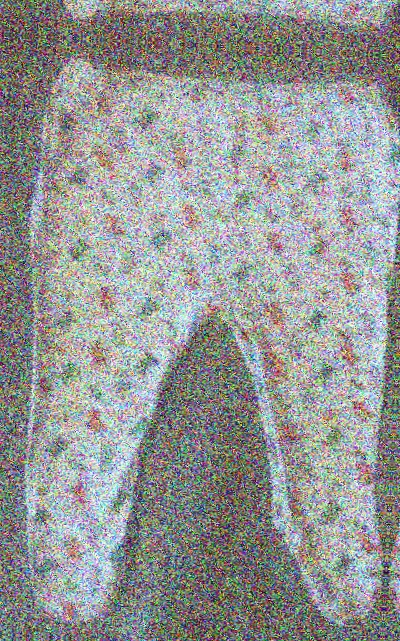Pants: (0, 58, 400, 638), (17, 0, 400, 34), (385, 80, 400, 641)
